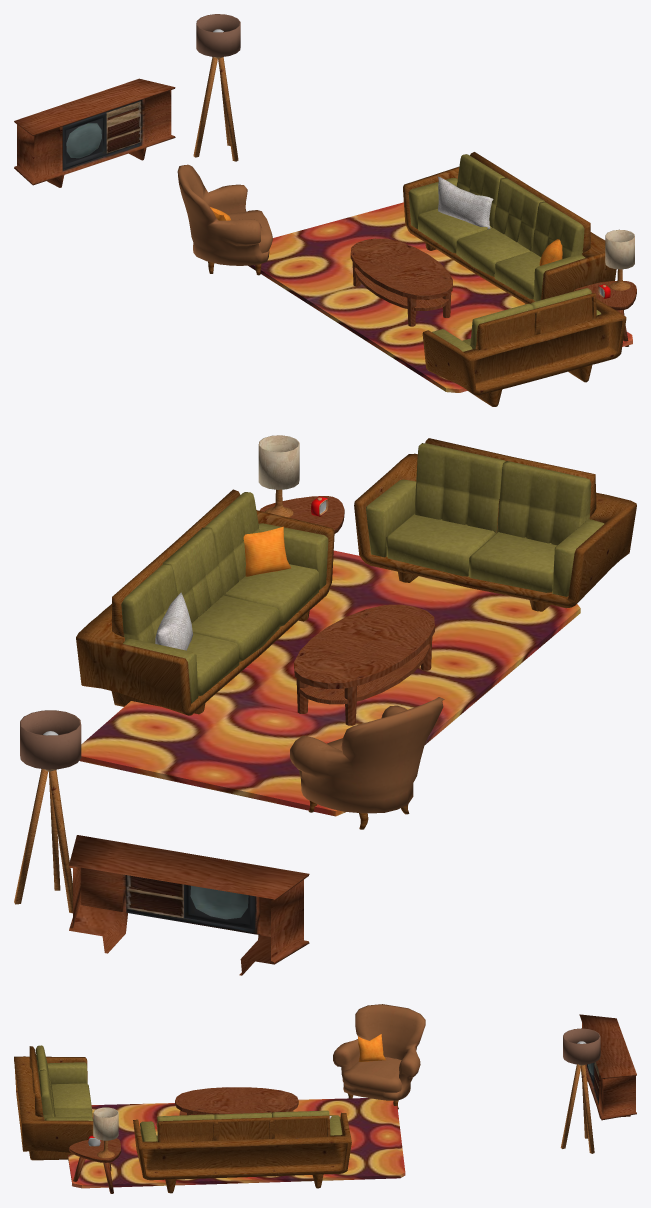
Rendered from mesh_70_room_1.glb.
The picture shows the model from 3 angles, top to bottom: view 1: azimuth 30°, elevation 25°; view 2: azimuth 150°, elevation 25°; view 3: azimuth 270°, elevation 25°; orthographic projection. The views are drawn at different scales.
Parts seen in each view (by area): view 1: mesh_70_room_1; view 2: mesh_70_room_1; view 3: mesh_70_room_1.
Boxes of the visible parts, x1=… form: mesh_70_room_1: x1=14, y1=14, x2=636, y2=406; mesh_70_room_1: x1=14, y1=435, x2=636, y2=975; mesh_70_room_1: x1=14, y1=1004, x2=636, y2=1193.
Size of the model in its own units: 4.45 by 1.72 by 8.88.
1 material, 1 textured.
